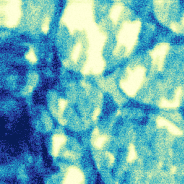hole_filled: (90, 108, 183, 184), (50, 4, 146, 75), (45, 74, 106, 135)
